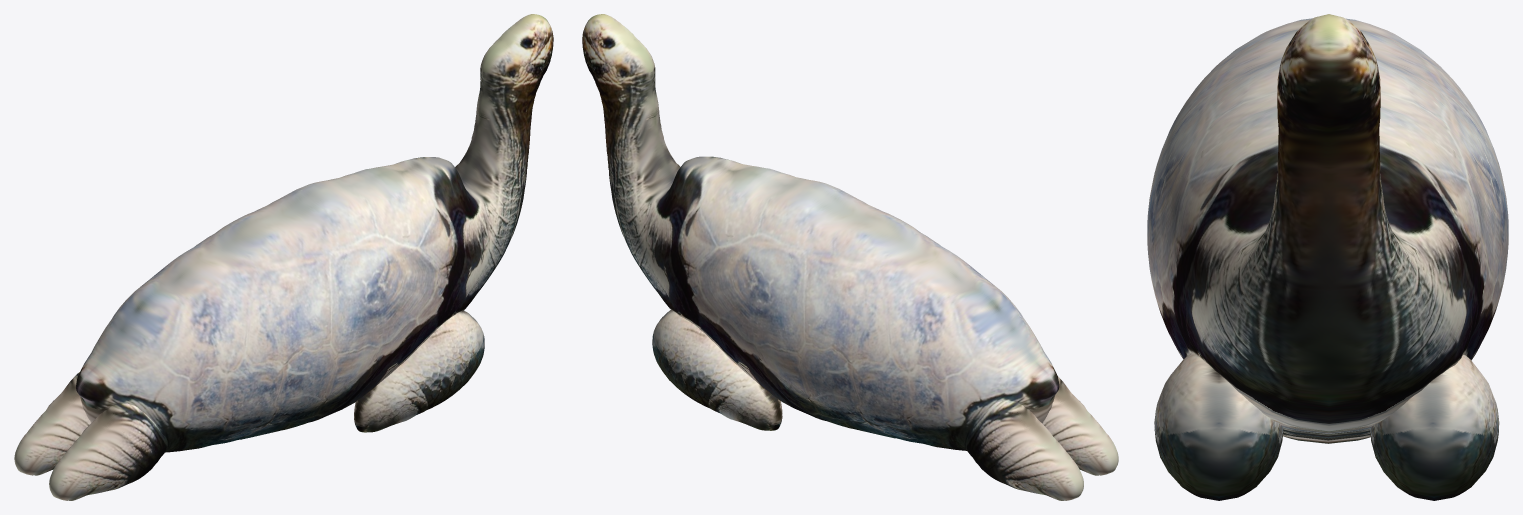
File: giant-tortoise.glb
The picture shows the model from 3 angles, left to right: view 1: azimuth 30°, elevation 25°; view 2: azimuth 150°, elevation 25°; view 3: azimuth 270°, elevation 25°; orthographic projection. The views are drawn at different scales.
Visible parts, largest first — view 1: mm_frame (39); view 2: mm_frame (39); view 3: mm_frame (39).
Boxes of the visible parts, x1=… form: mm_frame (39): x1=14, y1=14, x2=553, y2=500; mm_frame (39): x1=582, y1=14, x2=1118, y2=500; mm_frame (39): x1=1147, y1=14, x2=1508, y2=500.
Size of the model in its own units: 7.13 by 4.69 by 2.4.
Materials: 1 (1 with a texture image).
